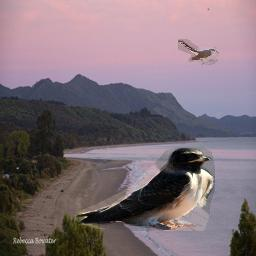Cuckoo: (178, 39, 219, 65)
Swallow: (73, 147, 215, 231)
